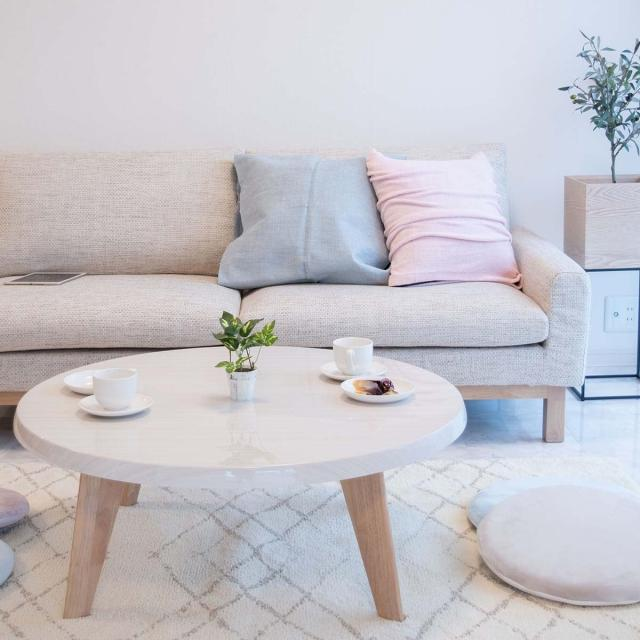white sofa: (6, 146, 591, 437)
